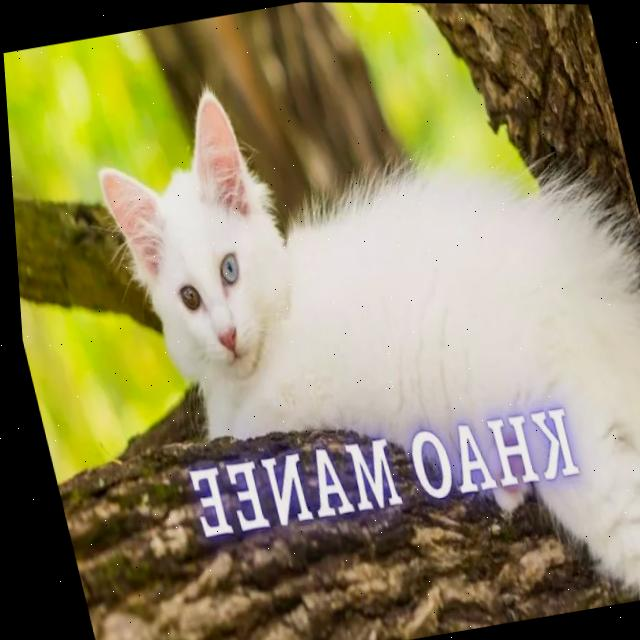Khao Manee: (72, 19, 640, 640)
